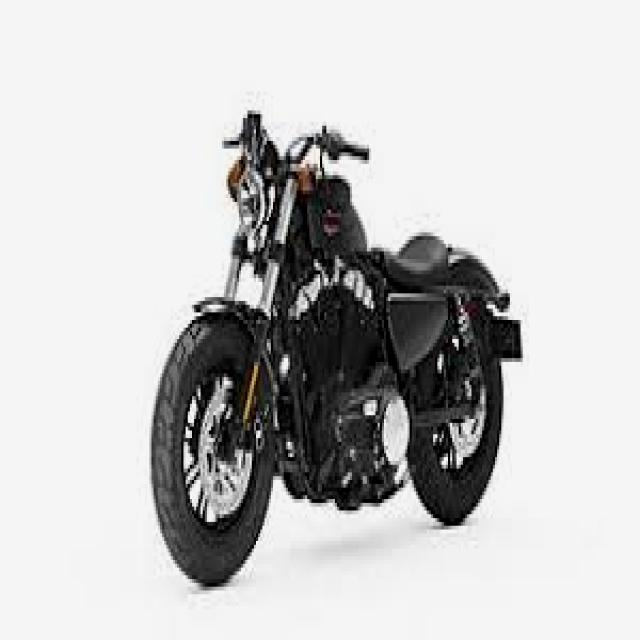MOTORCYCLE: (148, 150, 509, 590)
